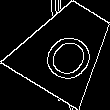O_NE: (32, 16, 99, 82)
